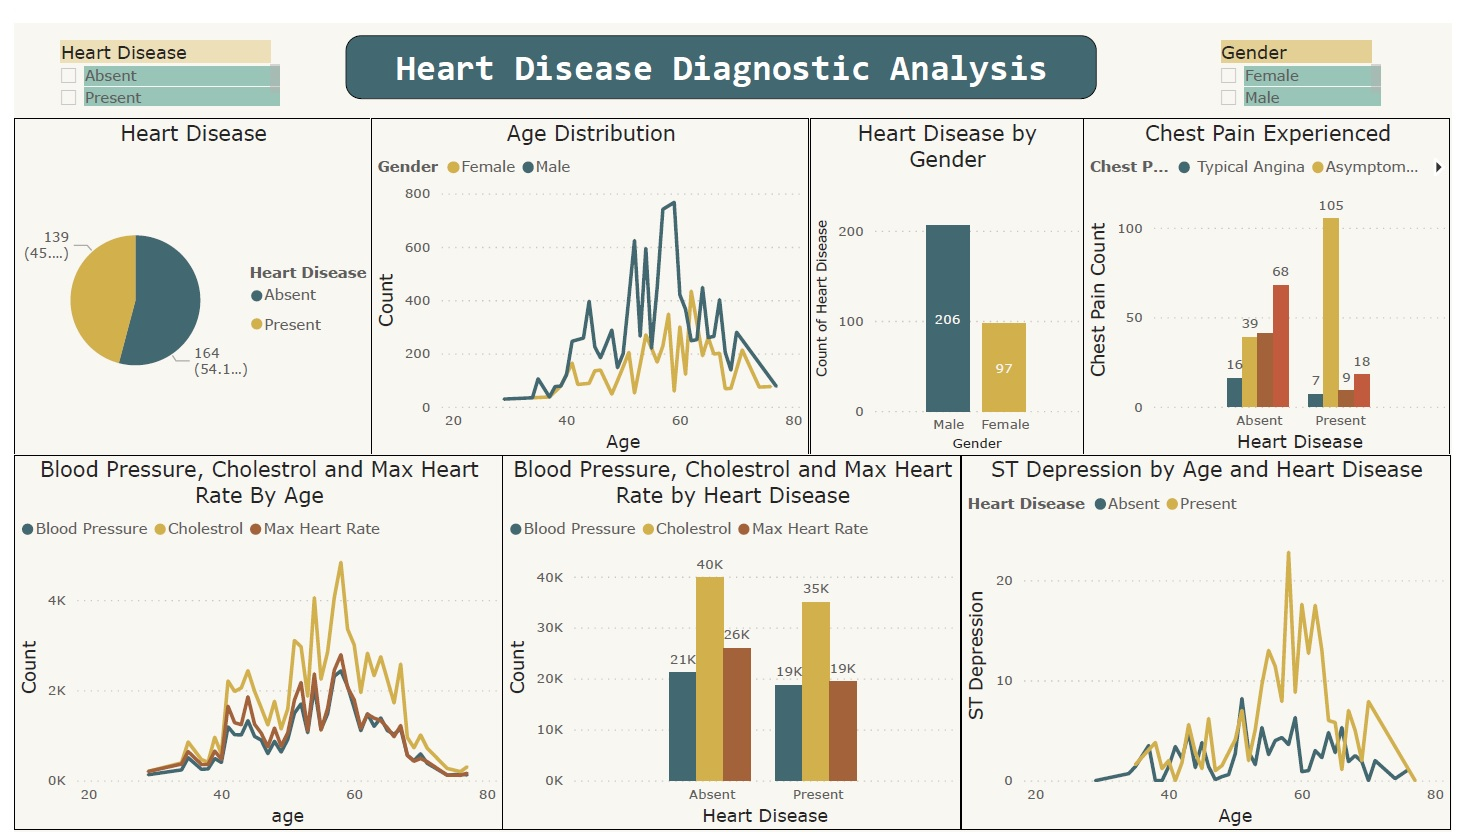

What the dashboard file says about the page in this screenshot:
{"tool":"powerbi","page":{"name":"Dashboard","canvas":[1280,720],"ordinal":0},"visuals":[{"type":"columnChart","title":"Heart Disease by Gender","fields":{"Category":["heart_disease_dataset.Gender"],"Y":["CountNonNull(heart_disease_dataset.Heart Disease)"],"Series":["heart_disease_dataset.Gender"]},"box":[708.1,84.8,243.6,299.7],"z":0},{"type":"pieChart","title":"Heart Disease","fields":{"Y":["CountNonNull(heart_disease_dataset.Heart Disease)"],"Category":["heart_disease_dataset.Heart Disease"]},"box":[0,84.8,317.6,299.7],"z":1000},{"type":"lineChart","title":"Age Distribution","fields":{"Category":["heart_disease_dataset.age"],"Y":["Sum(heart_disease_dataset.age)"],"Series":["heart_disease_dataset.Gender"]},"box":[317.6,84.8,390.4,300.9],"z":2000},{"type":"clusteredColumnChart","title":"Chest Pain Experienced","fields":{"Category":["heart_disease_dataset.Heart Disease"],"Y":["CountNonNull(heart_disease_dataset.chest pain)"],"Series":["heart_disease_dataset.chest pain"]},"box":[951.6,84.8,327.2,300.9],"z":3000},{"type":"lineChart","title":"Blood Pressure, Cholestrol and Max Heart Rate By Age","fields":{"Y":["Sum(heart_disease_dataset.Blood Pressure)","Sum(heart_disease_dataset.chol)","Sum(heart_disease_dataset.thalach)"],"Category":["heart_disease_dataset.age"]},"box":[0,384.5,434.6,334.3],"z":4000},{"type":"clusteredColumnChart","title":"Blood Pressure, Cholestrol and Max Heart Rate by Heart Disease","fields":{"Category":["heart_disease_dataset.Heart Disease"],"Y":["Sum(heart_disease_dataset.trestbps)","Sum(heart_disease_dataset.chol)","Sum(heart_disease_dataset.thalach)"]},"box":[434.6,384.5,408.4,334.3],"z":4001},{"type":"lineChart","title":"ST Depression by Age and Heart Disease","fields":{"Category":["heart_disease_dataset.age"],"Series":["heart_disease_dataset.Heart Disease"],"Y":["Sum(heart_disease_dataset.oldpeak)"]},"box":[843,384.5,435.8,334.3],"z":4002},{"type":"slicer","fields":{"Values":["heart_disease_dataset.Gender"]},"box":[1061.5,10.7,160,68.1],"z":4003},{"type":"slicer","fields":{"Values":["heart_disease_dataset.Heart Disease"]},"box":[28.7,10.7,212.5,68.1],"z":4004},{"type":"textbox","box":[294.9,10.7,668.7,57.3],"z":4005}]}

Visuals, with their boxes in screenshot pixels (x1, y1, x2, y2), scaled from the page's 1280x720 canvas onto the 1462x833 screenshot:
"Heart Disease by Gender" columnChart: BBox(809, 98, 1087, 445)
"Heart Disease" pieChart: BBox(0, 98, 363, 445)
"Age Distribution" lineChart: BBox(363, 98, 809, 446)
"Chest Pain Experienced" clusteredColumnChart: BBox(1087, 98, 1461, 446)
"Blood Pressure, Cholestrol and Max Heart Rate By Age" lineChart: BBox(0, 445, 496, 832)
"Blood Pressure, Cholestrol and Max Heart Rate by Heart Disease" clusteredColumnChart: BBox(496, 445, 963, 832)
"ST Depression by Age and Heart Disease" lineChart: BBox(963, 445, 1461, 832)
slicer - heart_disease_dataset.Gender: BBox(1212, 12, 1395, 91)
slicer - heart_disease_dataset.Heart Disease: BBox(33, 12, 275, 91)
textbox: BBox(337, 12, 1101, 79)
